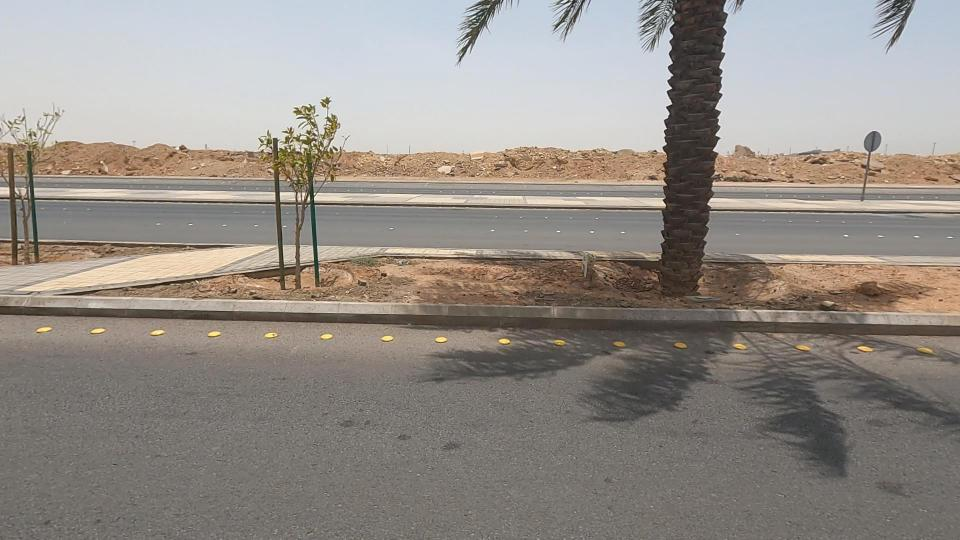CLUTTER_SIDEWALK: (196, 206, 726, 342), (631, 223, 960, 347)
